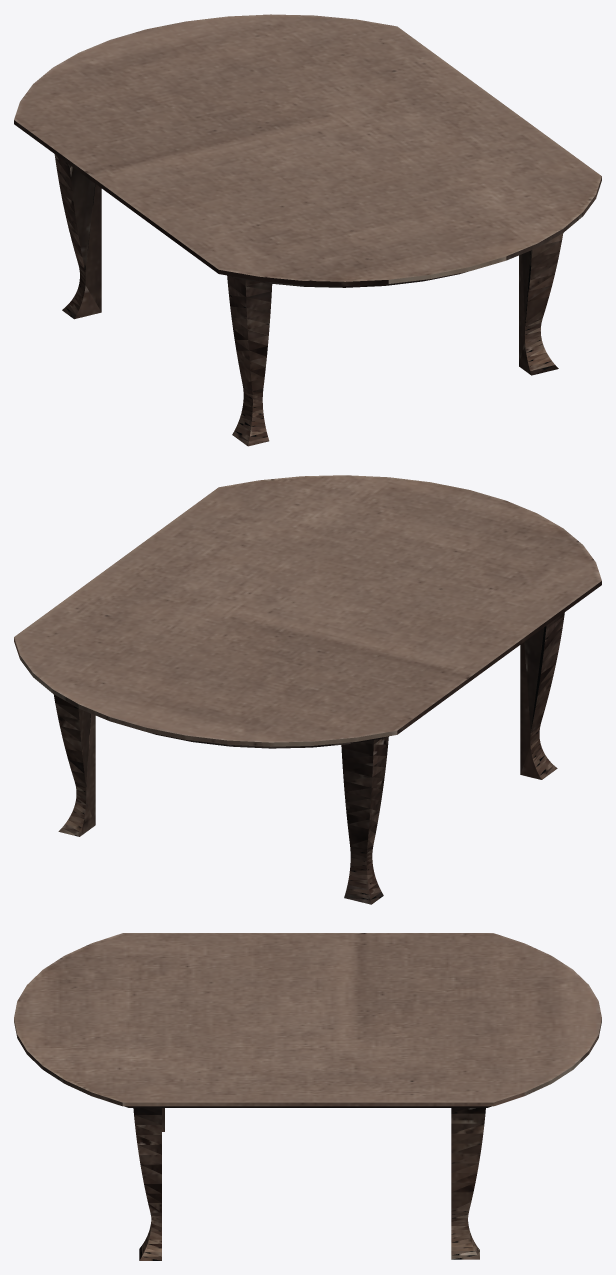
3 renders of one model, top to bottom at view 1: azimuth 30°, elevation 25°; view 2: azimuth 150°, elevation 25°; view 3: azimuth 270°, elevation 25°, orthographic. The views are drawn at different scales.
Parts seen in each view (by area): view 1: Node; view 2: Node; view 3: Node.
Boxes of the visible parts, x1=… form: Node: x1=14, y1=14, x2=601, y2=446; Node: x1=14, y1=475, x2=601, y2=904; Node: x1=14, y1=933, x2=601, y2=1260.
Bounding box in the file's own units: 0.4774 × 0.2275 × 0.7.
1 material, 1 textured.
